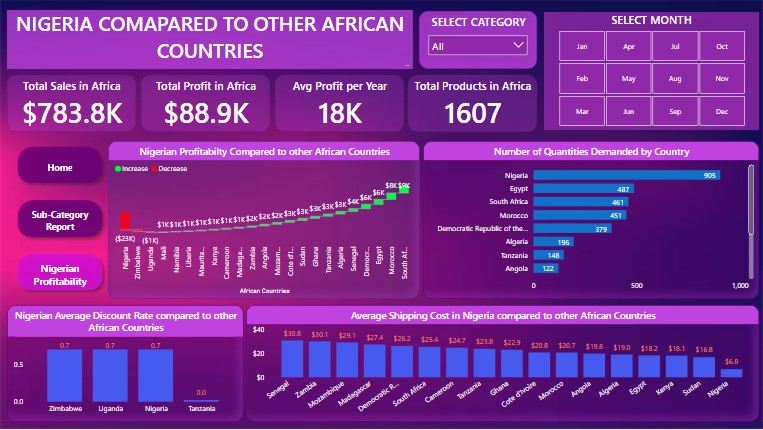

The page's visual inventory and layout, read from the dashboard file:
{"tool":"powerbi","page":{"name":"Nigerian Profitability","canvas":[1280,720],"ordinal":2},"visuals":[{"type":"waterfallChart","title":"Nigerian Profitabilty Compared to other African Countries ","fields":{"Category":["Orders.Country"],"Y":["Sum(Orders.Profit)"]},"box":[181.3,236.5,522.9,265.4],"z":0},{"type":"card","title":"Total Profit in Africa","fields":{"Values":["Sum(Orders.Profit)"]},"box":[236.2,125.7,216.1,95.5],"z":1000},{"type":"card","title":"Avg Profit per Year ","fields":{"Values":["Orders.Average profit per year"]},"box":[460.7,125.7,216.1,95.5],"z":2000},{"type":"card","title":"Total Products in Africa","fields":{"Values":["Orders.Total Products"]},"box":[685.2,125.7,216.1,95.5],"z":3000},{"type":"card","title":"Total Sales in Africa","fields":{"Values":["Sum(Orders.Sales)"]},"box":[11.7,125.7,216.1,95.5],"z":4000},{"type":"textbox","title":"NIGERIA COMAPARED TO OTHER AFRICAN COUNTRIES ","box":[11.7,16.8,681.1,99],"z":5000},{"type":"slicer","title":"SELECT CATEGORY","fields":{"Values":["Orders.Category"]},"box":[702.9,18.5,198,97.3],"z":6000},{"type":"slicer","title":"SELECT MONTH","fields":{"Values":["Calender.Month"]},"box":[912.6,20.1,360.7,198],"z":7000},{"type":"columnChart","title":"Nigerian Average Discount Rate compared to other African Countries","fields":{"Y":["Avg(Orders.Discount)"],"Category":["Orders.Country"]},"box":[11.7,511.7,397,196.3],"z":8000},{"type":"columnChart","title":"Average Shipping Cost in Nigeria compared to other African Countries","fields":{"Y":["Avg(Orders.Shipping Cost)"],"Category":["Orders.Country"]},"box":[412.7,511.7,860.6,196.3],"z":9000},{"type":"barChart","title":"Number of Quantities Demanded by Country","fields":{"Category":["Orders.Country"],"Y":["CountNonNull(Orders.Quantity)"]},"box":[709.6,236.5,563.7,265.1],"z":10000},{"type":"pageNavigator","box":[20.1,236.5,161,261.7],"z":11000}]}

Visuals, with their boxes in screenshot pixels (x1, y1, x2, y2), scaled from the page's 1280x720 canvas onto the 763x430 screenshot:
"Nigerian Profitabilty Compared to other African Countries " waterfallChart: [108, 141, 420, 300]
"Total Profit in Africa" card: [141, 75, 270, 132]
"Avg Profit per Year " card: [275, 75, 403, 132]
"Total Products in Africa" card: [408, 75, 537, 132]
"Total Sales in Africa" card: [7, 75, 136, 132]
"NIGERIA COMAPARED TO OTHER AFRICAN COUNTRIES " textbox: [7, 10, 413, 69]
"SELECT CATEGORY" slicer: [419, 11, 537, 69]
"SELECT MONTH" slicer: [544, 12, 759, 130]
"Nigerian Average Discount Rate compared to other African Countries" columnChart: [7, 306, 244, 423]
"Average Shipping Cost in Nigeria compared to other African Countries" columnChart: [246, 306, 759, 423]
"Number of Quantities Demanded by Country" barChart: [423, 141, 759, 300]
pageNavigator: [12, 141, 108, 298]
